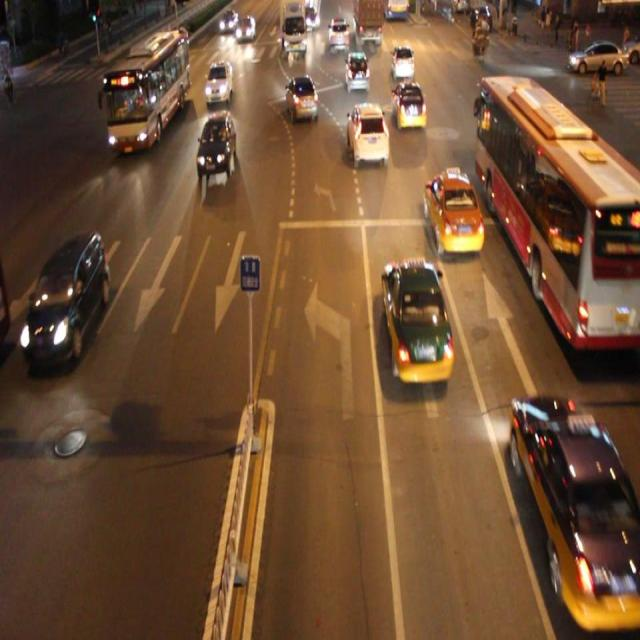car: (508, 394, 640, 631), (22, 230, 106, 366), (384, 260, 454, 384), (425, 170, 481, 257), (345, 101, 388, 164), (195, 111, 235, 173), (391, 78, 427, 131), (286, 74, 319, 124), (204, 62, 232, 106), (344, 52, 369, 96), (391, 42, 416, 78)
van: (474, 76, 640, 352), (106, 32, 191, 151)
